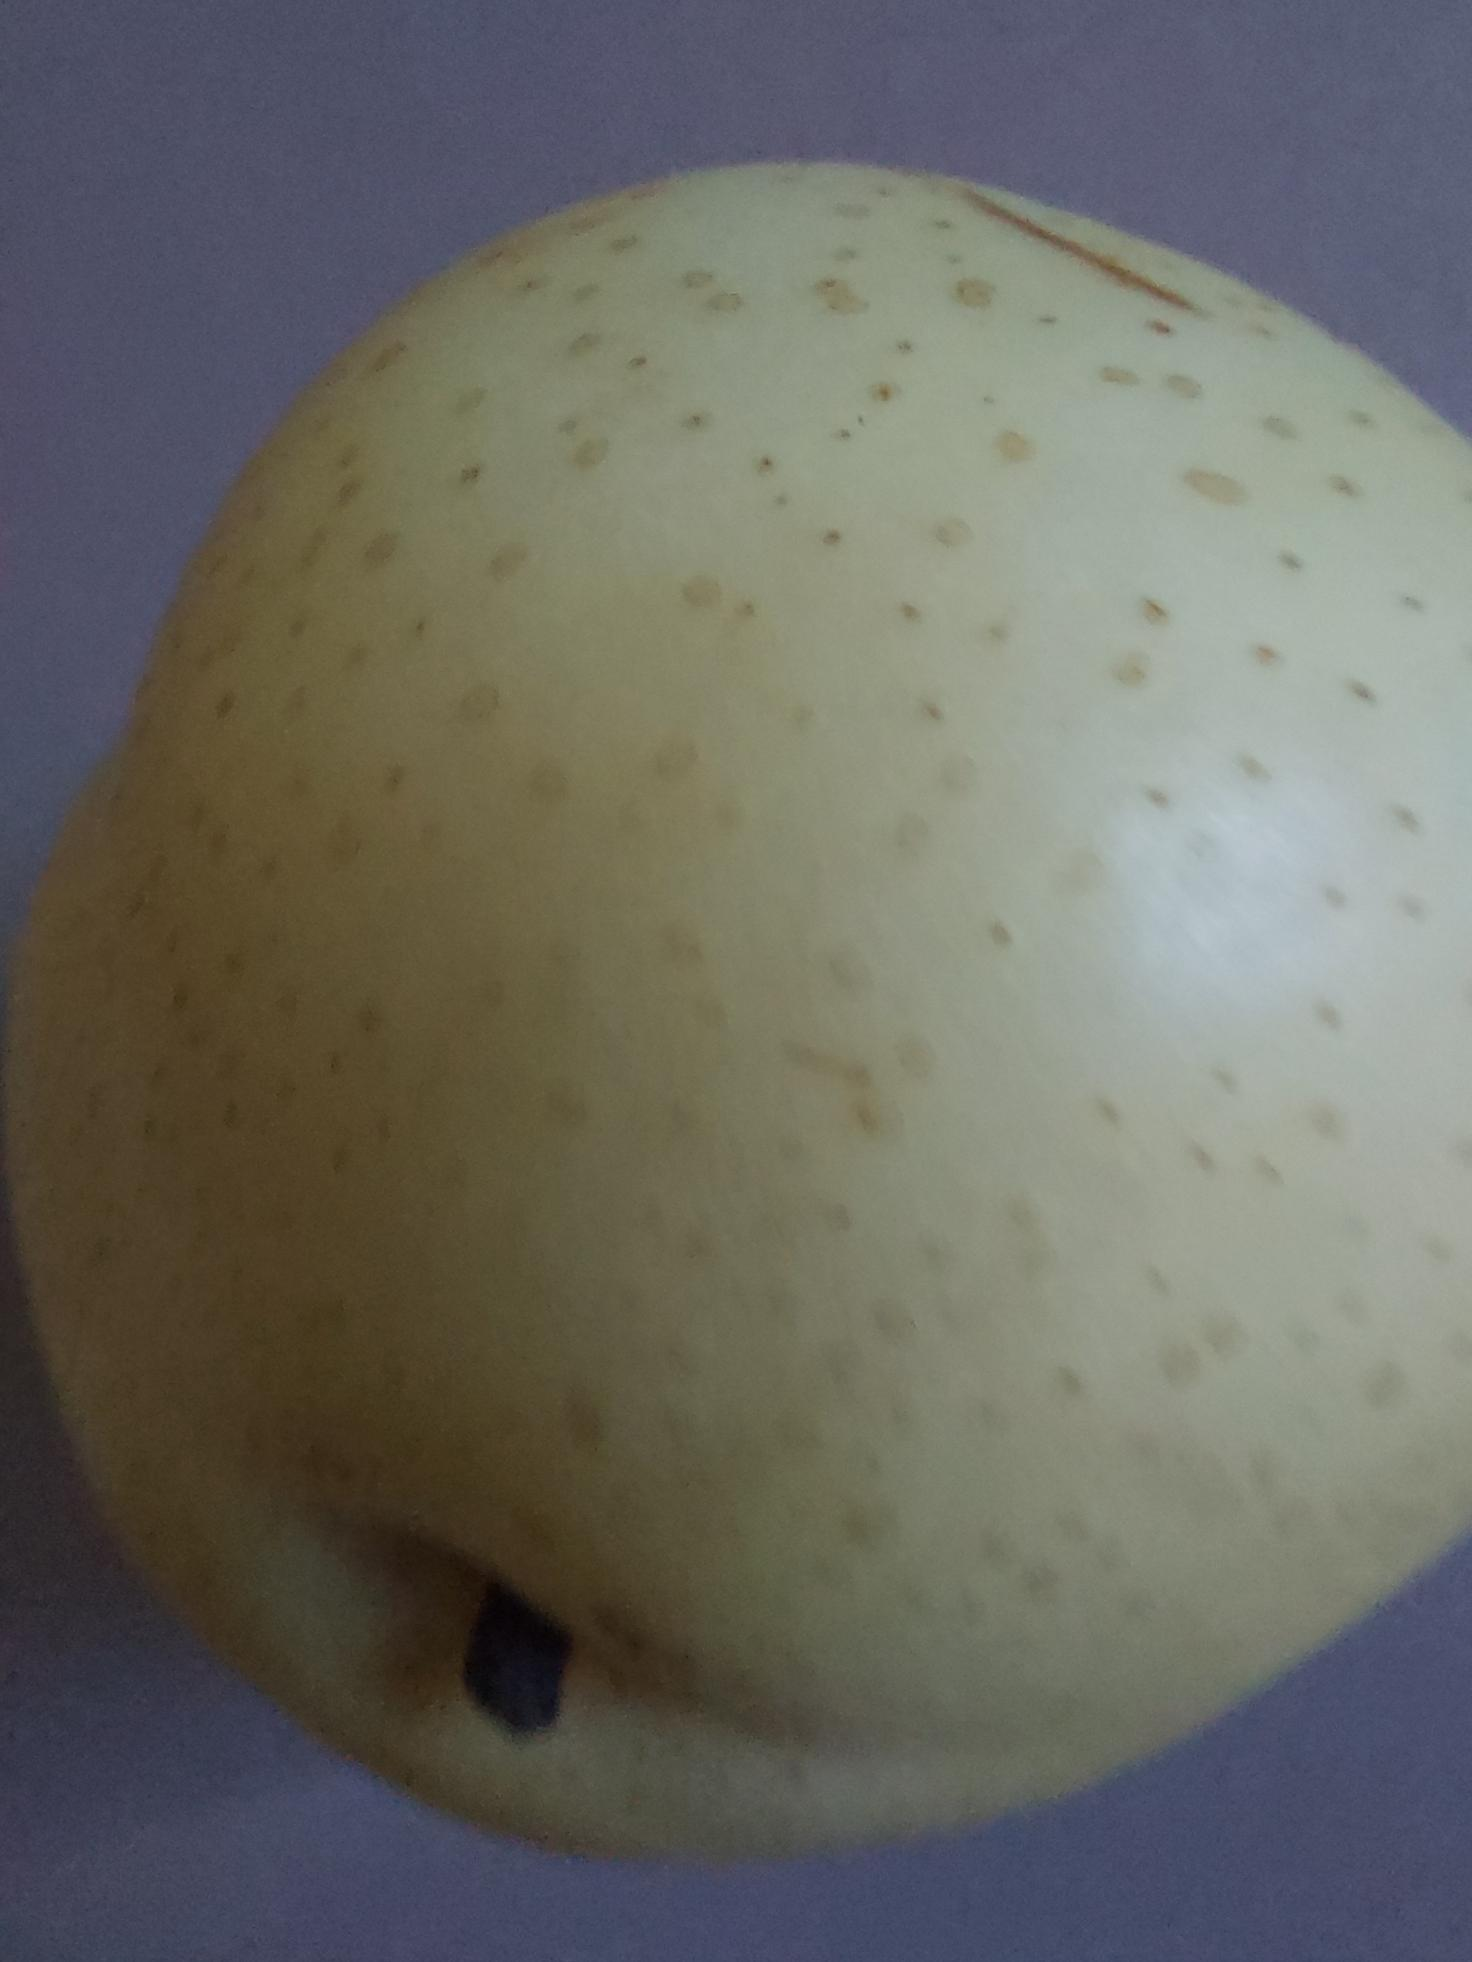Good Pear: (0, 145, 1472, 1872)
